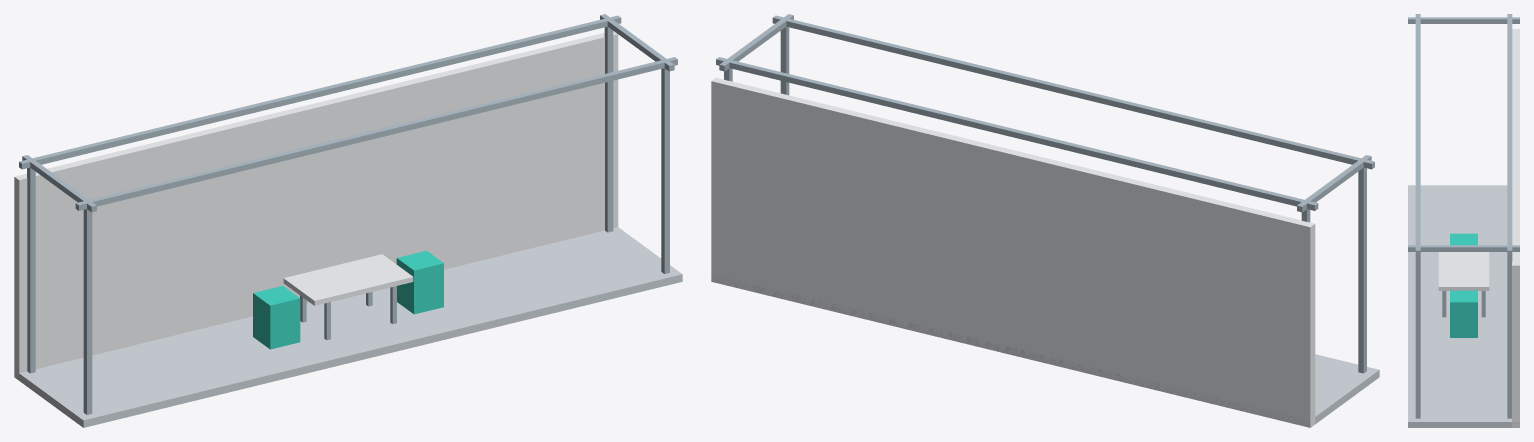
3 views of the same model, side by side, from view 1: azimuth 30°, elevation 25°; view 2: azimuth 150°, elevation 25°; view 3: azimuth 270°, elevation 25° (orthographic). The views are drawn at different scales.
Visible parts, largest first — view 1: Exhibition Booth Concept; view 2: Exhibition Booth Concept; view 3: Exhibition Booth Concept.
Boxes of the visible parts, x1,y1,x2,y2 form: Exhibition Booth Concept: (14,14,682,427); Exhibition Booth Concept: (711,14,1379,427); Exhibition Booth Concept: (1408,14,1519,427).
Size of the model in its own units: 10 by 3.49 by 2.
